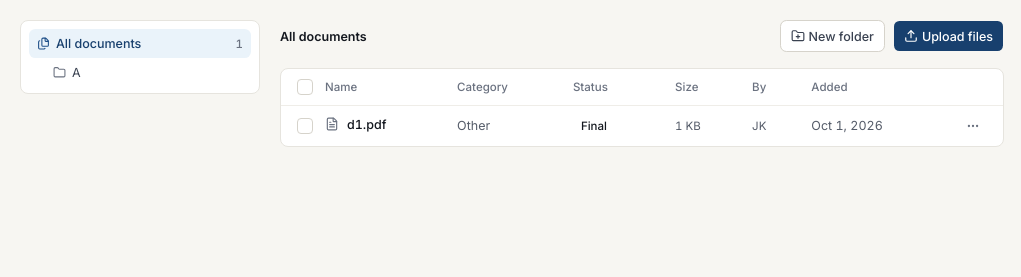
Test case: right-click › a row opens its actions
Right-click the row "d1.pdf Other Final 1 KB JK Oct 1, 2026" at (474, 126), box [281,105,1003,146]
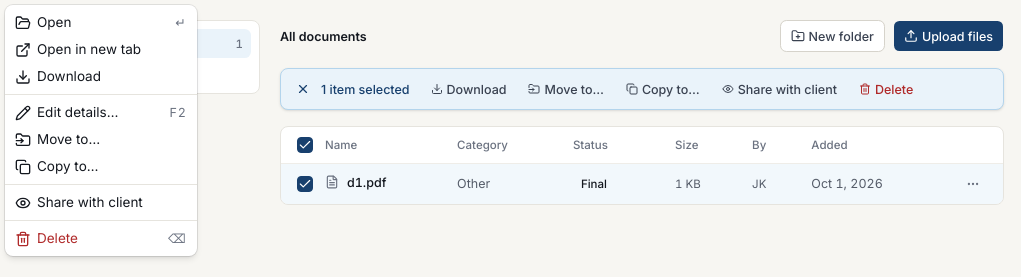
Result: the menu item "Open in new tab" is shown at [15,41,141,58]
